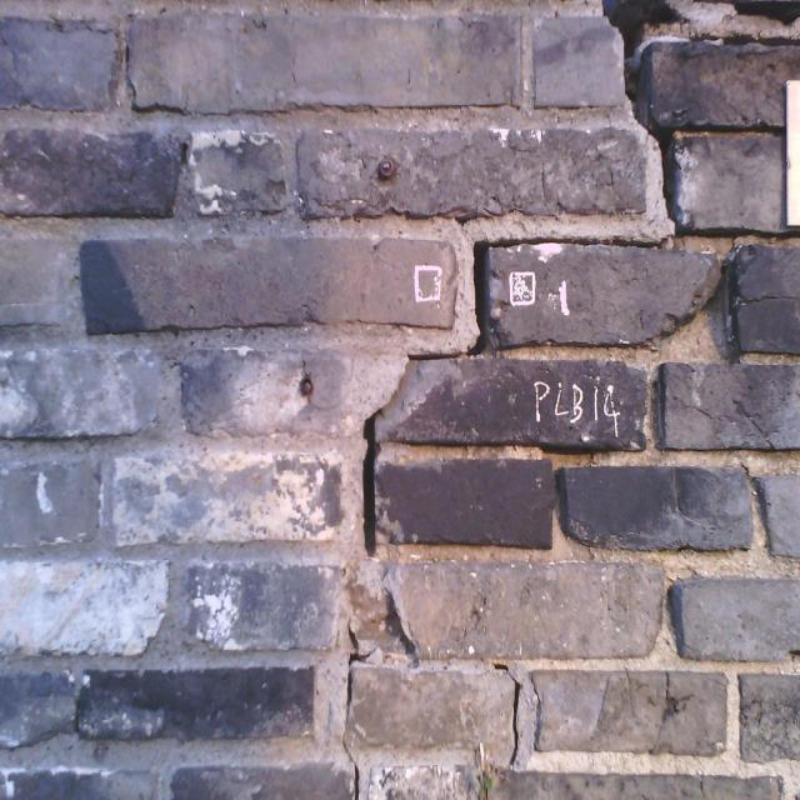crack: (408, 236, 658, 361), (606, 0, 682, 236), (362, 408, 383, 556), (494, 663, 523, 766), (347, 619, 370, 720), (342, 733, 359, 799), (742, 295, 791, 304), (731, 235, 736, 249)
